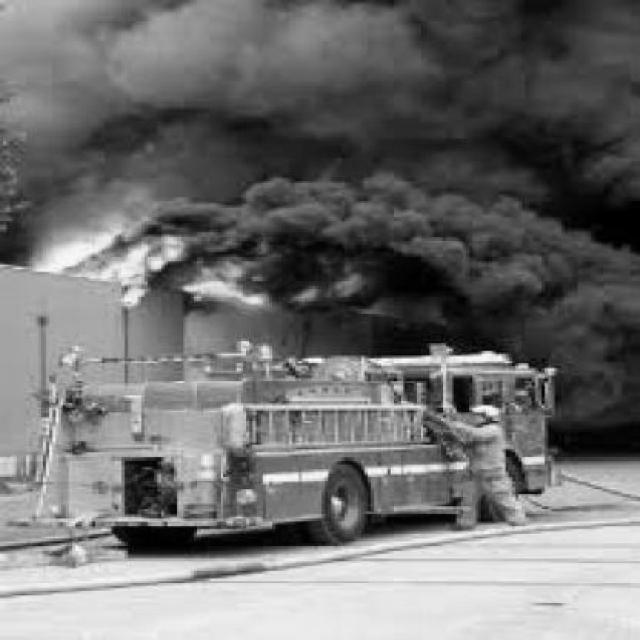Fire Truck: (6, 340, 563, 550)
